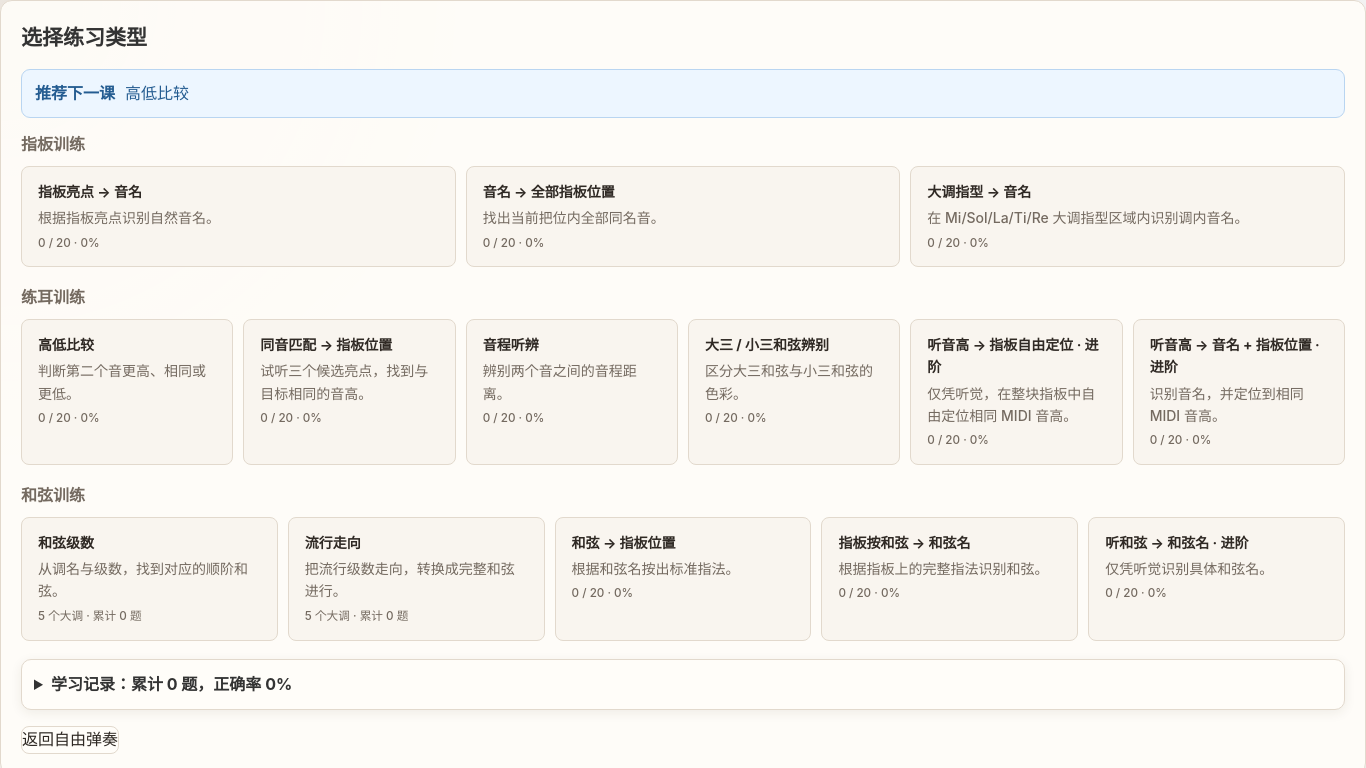
GuitarAudioProvider › preserves the preview chord through submission and automatic advancement in 和弦级数
What coordinates should you click on to do the following:
click the button "和弦级数 从调名与级数，找到对应的顺阶和弦。 5 个大调 · 累计 0 题"
I would click on:
 (149, 579)
Its box is [21, 517, 278, 640].
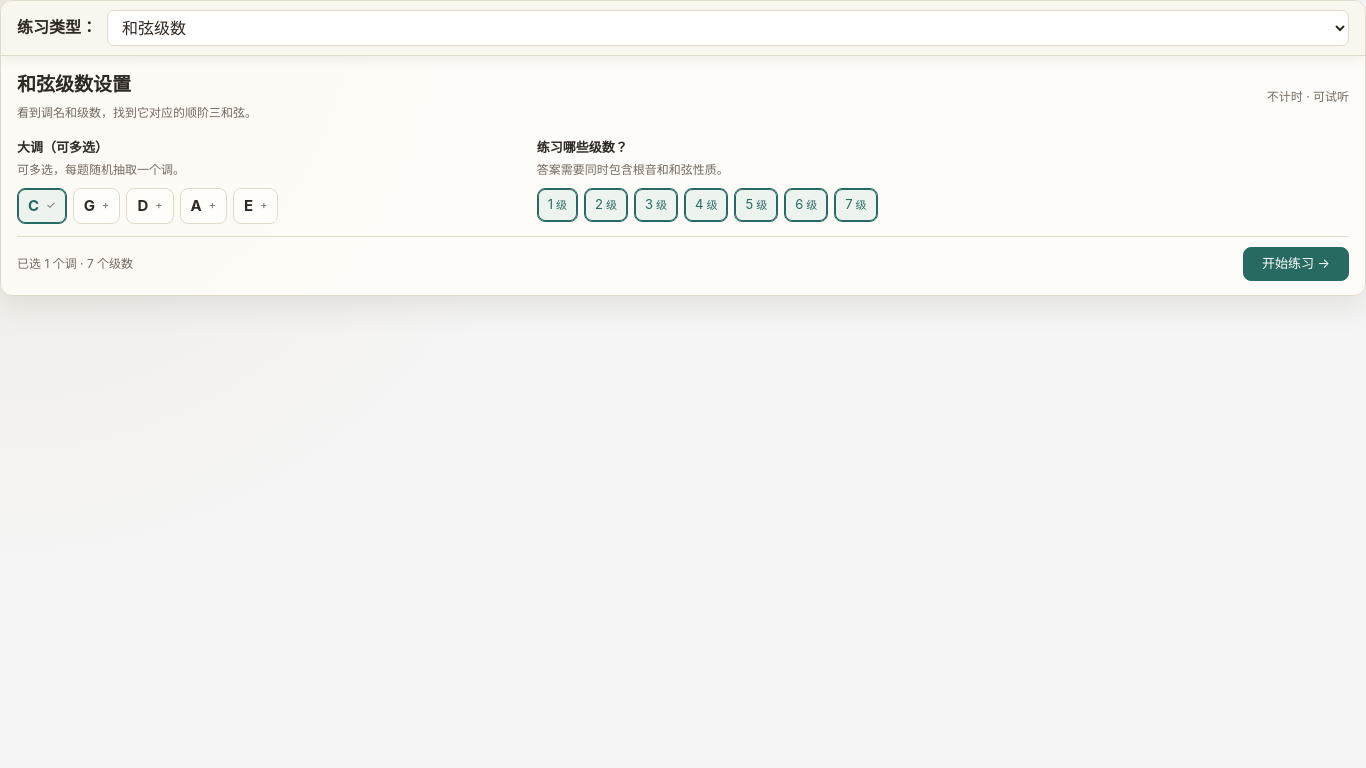
What coordinates should you click on to do the following:
click the button "开始练习 →"
I would click on:
 (1296, 264)
Its box is [1243, 247, 1349, 281].
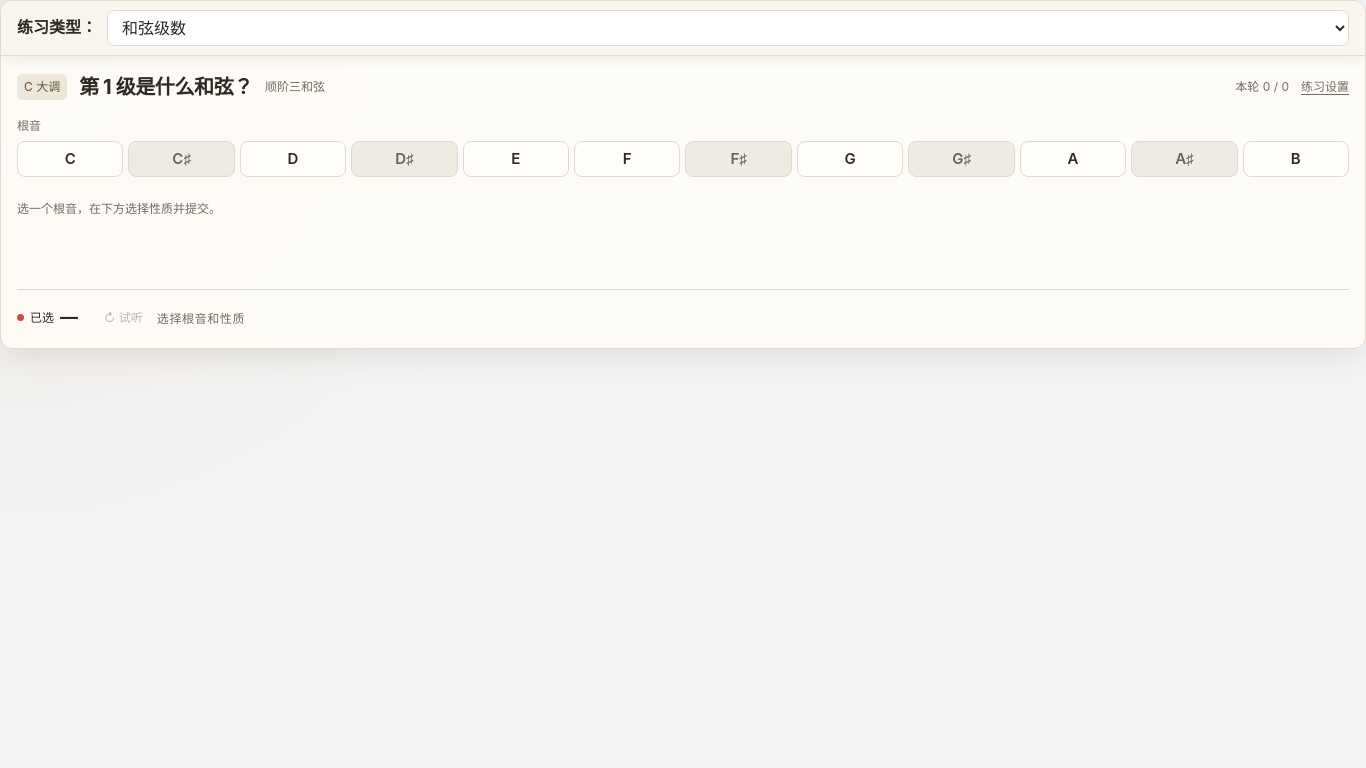
What coordinates should you click on to do the following:
click the button named "根音 C"
I would click on:
 (70, 159)
Its box is [17, 141, 123, 177].
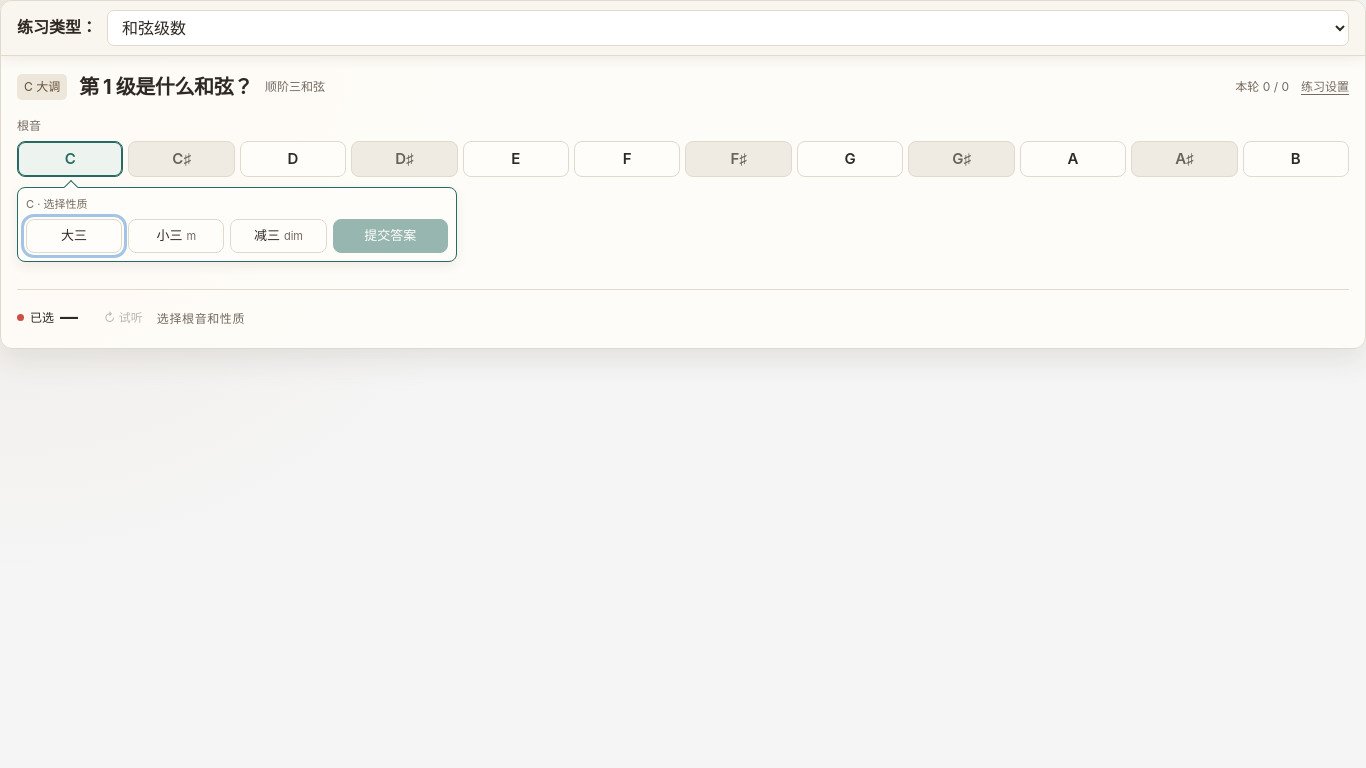
What coordinates should you click on to do the following:
click the button "大三"
I would click on:
 (74, 236)
Its box is [26, 219, 122, 253].
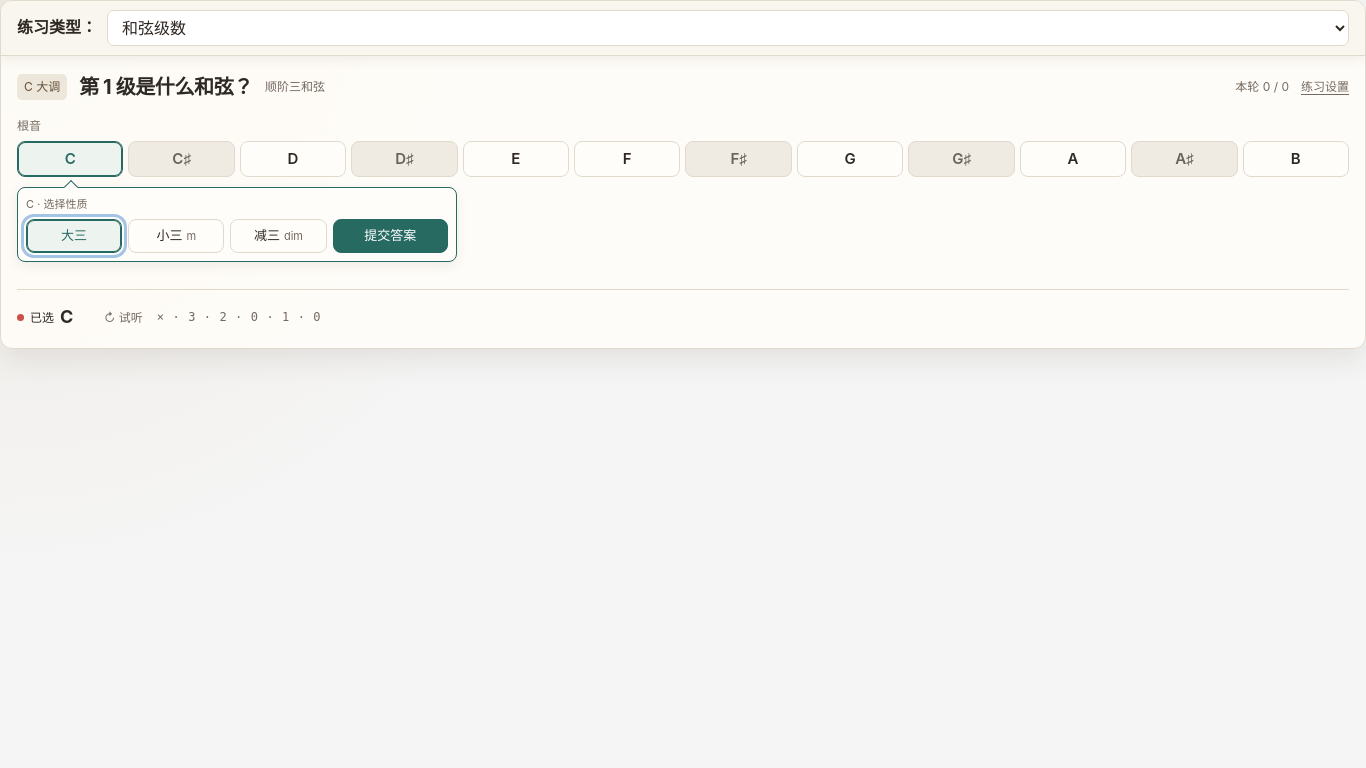
What coordinates should you click on to do the following:
click the button "提交答案"
I would click on:
 (390, 236)
Its box is [333, 219, 448, 253].
Wait 500 ms
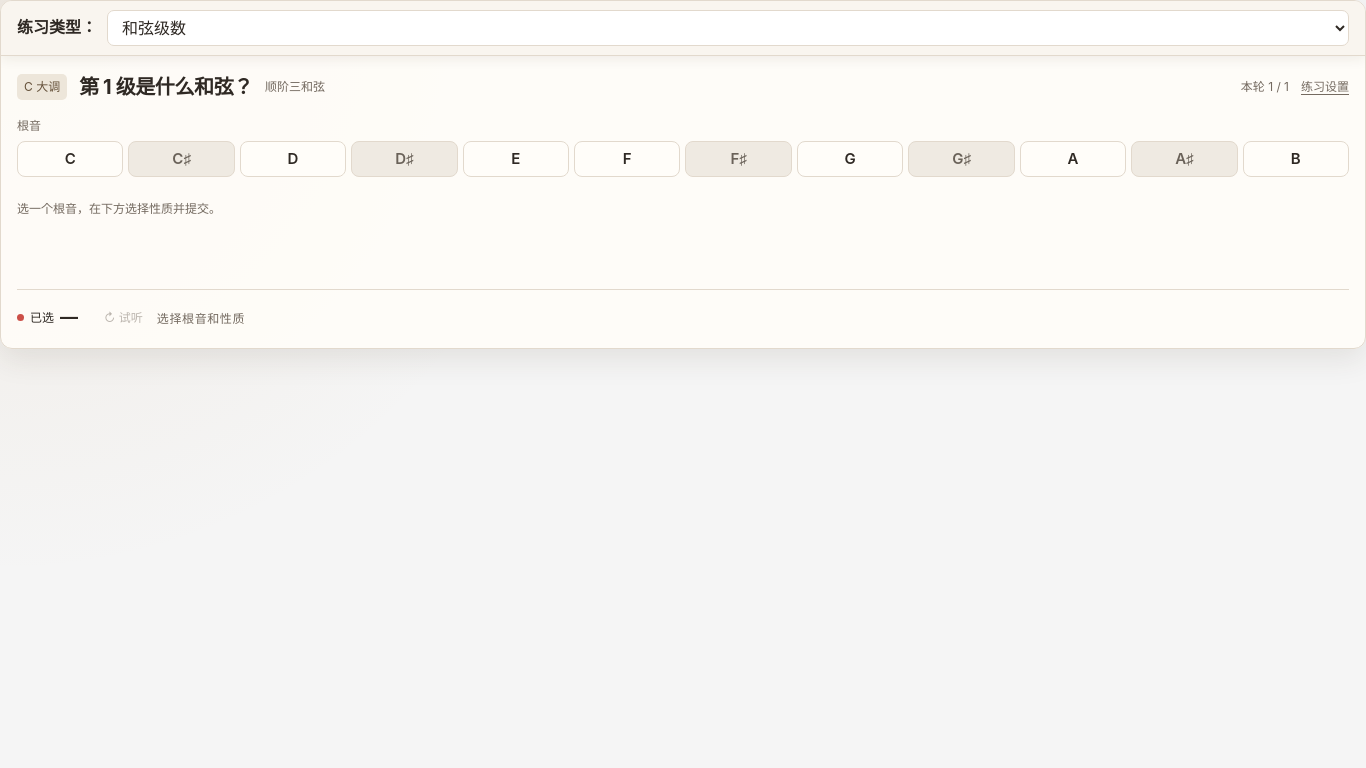
Now the button "提交答案" is gone
